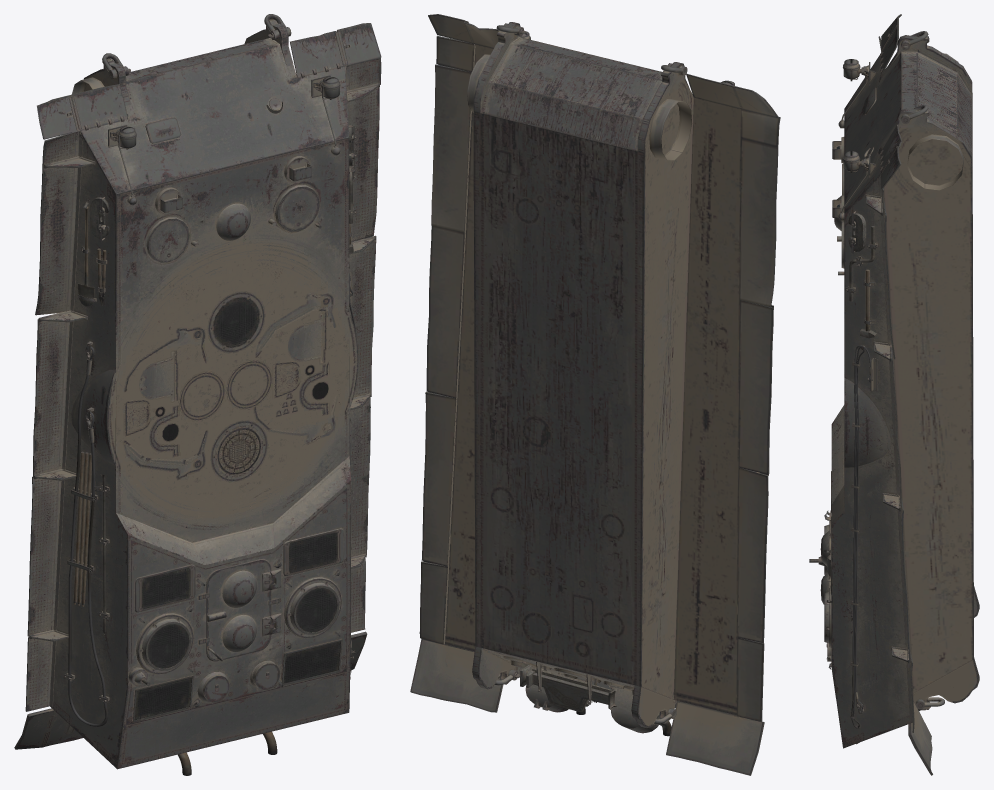
Rendered from Hull.glb.
The picture shows the model from 3 angles, left to right: view 1: azimuth 30°, elevation 25°; view 2: azimuth 150°, elevation 25°; view 3: azimuth 270°, elevation 25°; orthographic projection. The views are drawn at different scales.
Parts seen in each view (by area): view 1: set_0_group_0; view 2: set_0_group_0; view 3: set_0_group_0.
Part boxes in pixels (bbox=[...]): set_0_group_0: bbox=[14, 14, 381, 775]; set_0_group_0: bbox=[410, 14, 780, 775]; set_0_group_0: bbox=[809, 14, 979, 775].
Size of the model in its own units: 3.98 by 7.87 by 1.87.
Materials: 1 (1 with a texture image).
